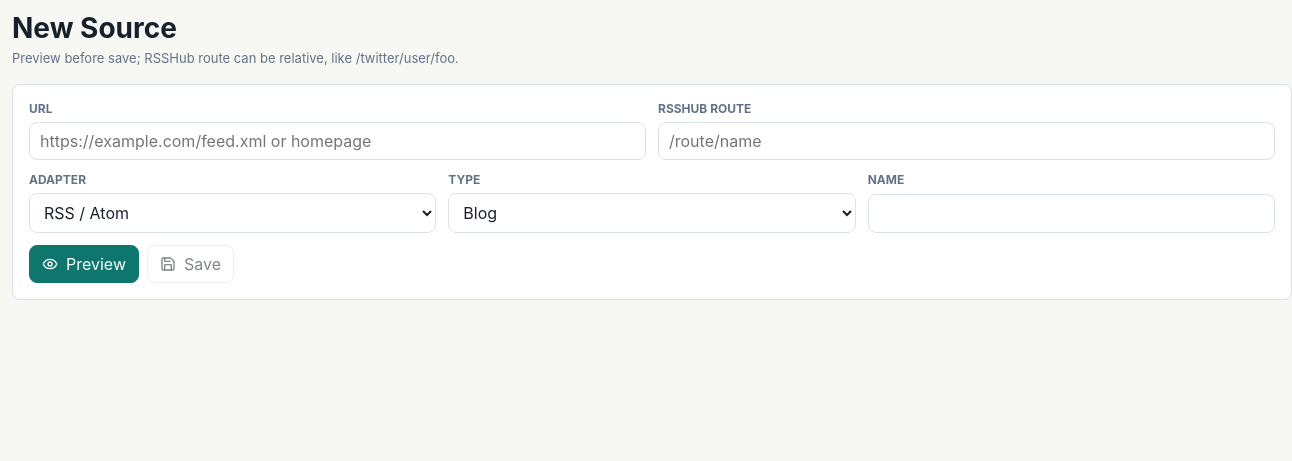
Test: NewSourcePage › validates that name, URL, or route exists before saving
Click the button "Preview" at (84, 264), box [29,245,139,283]
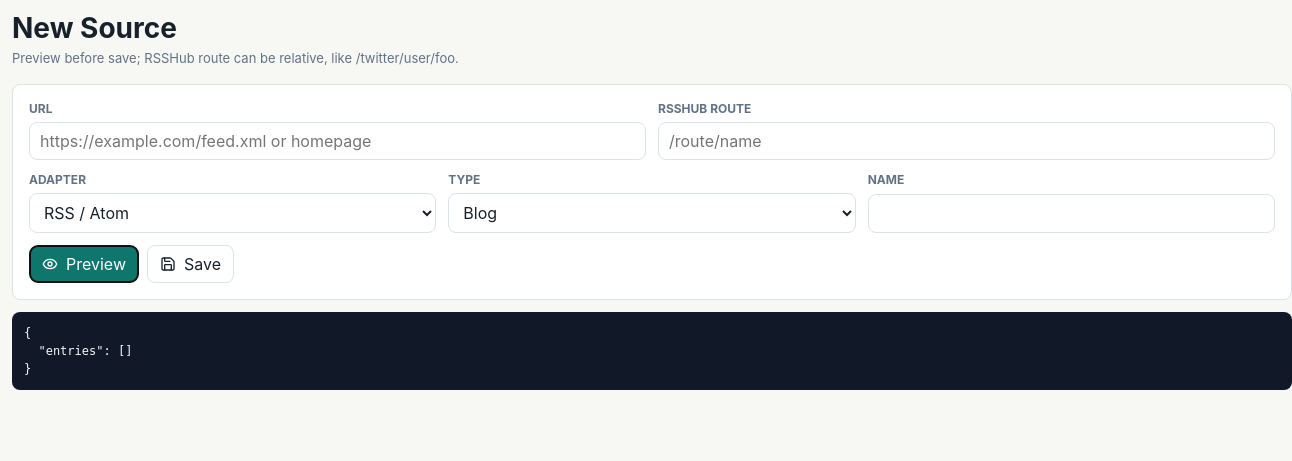
Click the button "Save" at (190, 264), box [147,245,234,283]
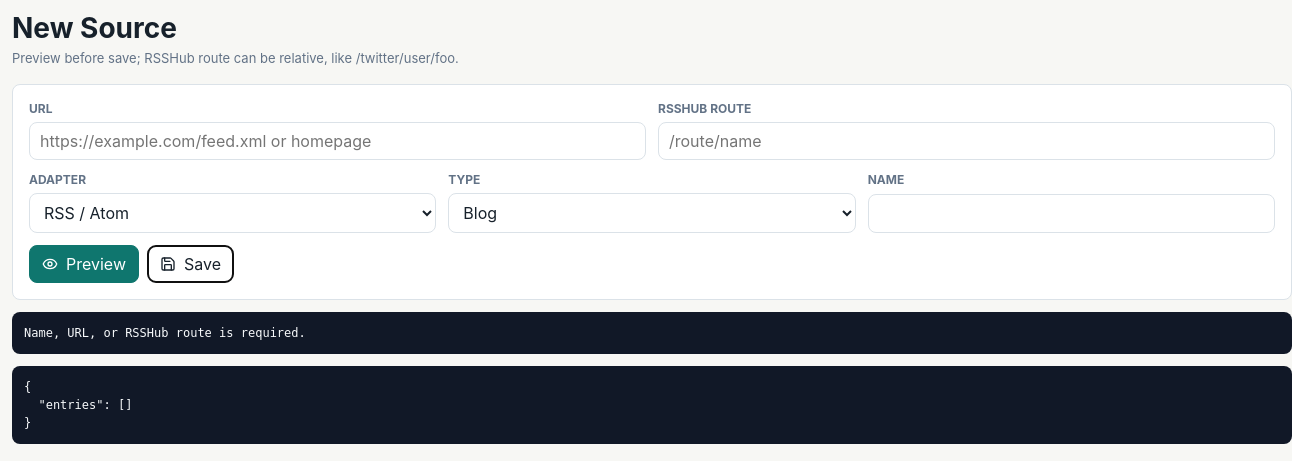
Check: the text "Name, URL, or RSSHub route is required." is shown, box [12,312,1291,354]
